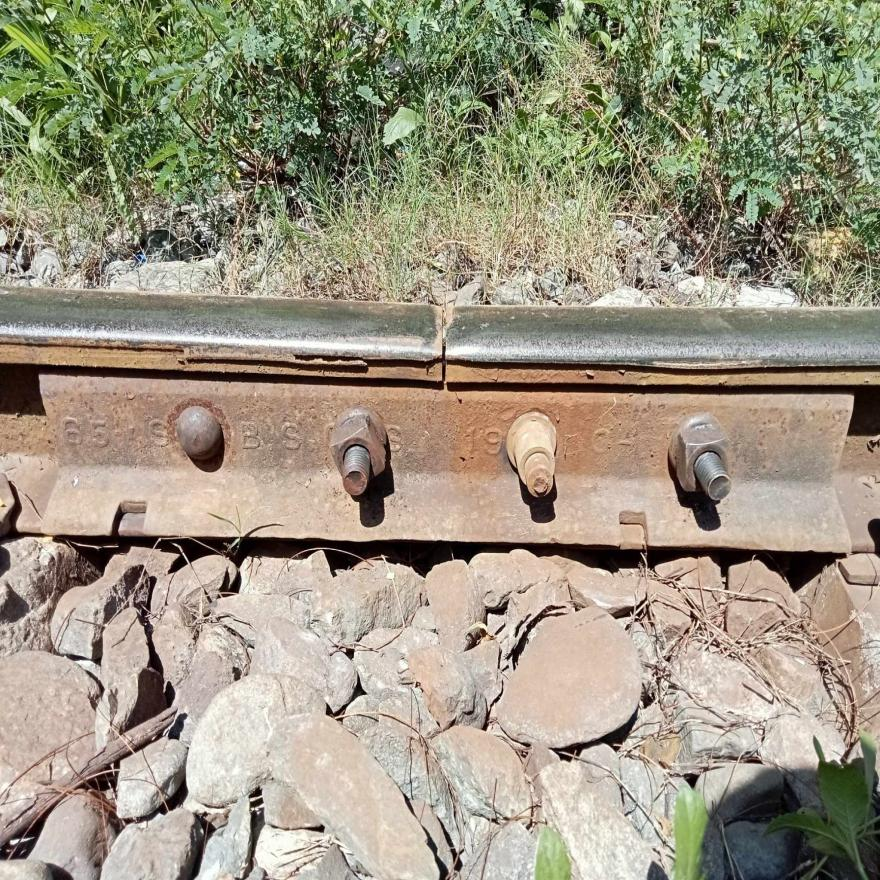railway-gap: (389, 279, 498, 400)
